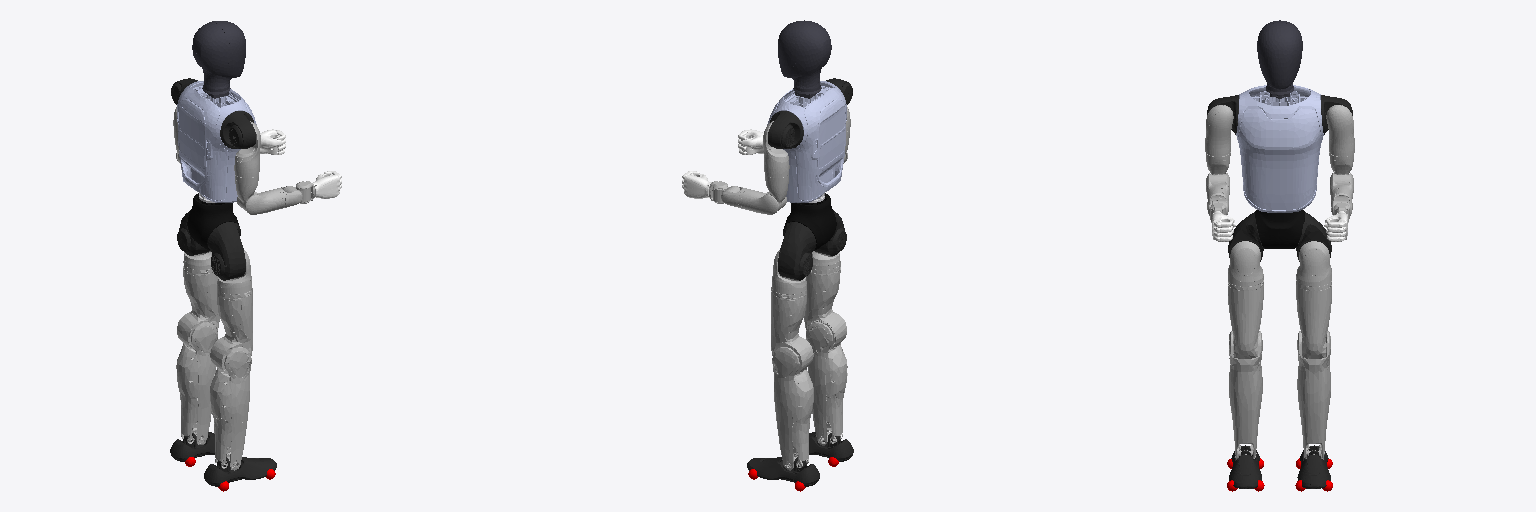
--- Render facts (derived) ---
3 views of the same robot in one strip: view 1: azimuth 30°, elevation 25°; view 2: azimuth 150°, elevation 25°; view 3: azimuth 270°, elevation 25° (orthographic).
Robot: agibot_a3 — 43 links, 42 joints (25 revolute, 17 fixed); root link pelvis_link; default pose: all joints at 0.
Links seen in each view (by area): view 1: torso_Link, right_knee_Link, left_knee_Link, head_Link, right_hip_yaw_Link, left_hip_yaw_Link, right_hip_pitch_Link, pelvis_link, right_ankle_roll_Link, right_shoulder_pitch_Link, right_shoulder_roll_Link, left_ankle_roll_Link (+5 smaller); view 2: torso_Link, left_knee_Link, right_knee_Link, head_Link, left_hip_yaw_Link, right_hip_yaw_Link, left_hip_pitch_Link, pelvis_link, left_ankle_roll_Link, left_shoulder_pitch_Link, left_shoulder_roll_Link, right_ankle_roll_Link (+5 smaller); view 3: torso_Link, right_knee_Link, left_knee_Link, head_Link, left_hip_yaw_Link, right_hip_yaw_Link, pelvis_link, left_hip_roll_Link, right_hip_roll_Link, left_shoulder_roll_Link, right_shoulder_roll_Link, left_ankle_roll_Link (+5 smaller).
Boxes of the visible links, x1,y1,x2,y2 form: torso_Link: (177,81,256,202); right_knee_Link: (210,343,251,470); left_knee_Link: (176,320,217,444); head_Link: (192,21,245,98); right_hip_yaw_Link: (210,288,252,374); left_hip_yaw_Link: (177,265,219,349); right_hip_pitch_Link: (207,222,245,280); pelvis_link: (187,193,238,250); right_ankle_roll_Link: (204,457,276,486); right_shoulder_pitch_Link: (220,111,255,148); right_shoulder_roll_Link: (234,121,260,177); left_ankle_roll_Link: (170,432,214,461); torso_Link: (767,81,846,202); left_knee_Link: (772,343,813,470); right_knee_Link: (806,320,847,445); head_Link: (778,20,831,98); left_hip_yaw_Link: (771,287,813,374); right_hip_yaw_Link: (804,263,846,349); left_hip_pitch_Link: (778,222,816,280); pelvis_link: (784,193,836,250); left_ankle_roll_Link: (747,457,819,486); left_shoulder_pitch_Link: (768,111,803,148); left_shoulder_roll_Link: (763,121,789,177); right_ankle_roll_Link: (809,432,853,461); torso_Link: (1236,85,1323,212); right_knee_Link: (1229,331,1262,459); left_knee_Link: (1297,331,1330,459); head_Link: (1257,20,1302,98); left_hip_yaw_Link: (1296,280,1331,358); right_hip_yaw_Link: (1228,280,1263,358); pelvis_link: (1255,210,1304,248); left_hip_roll_Link: (1296,241,1331,286); right_hip_roll_Link: (1228,241,1263,286); left_shoulder_roll_Link: (1326,105,1354,156); right_shoulder_roll_Link: (1205,105,1233,156); left_ankle_roll_Link: (1297,445,1330,488).
Size in the robot's own frame: 0.5035 by 0.526 by 1.76 metres.
Meshes: 35 distinct files referenced, 35 mesh visuals loaded (35 binary STL).

URDF robot description (agibot_a3):
<?xml version='1.0' encoding='utf-8'?>
<robot name="agibot_a3">
  <!-- <link name="world_link" /> -->
  <link name="pelvis_link">
    <inertial>
      <origin xyz="-0.00173323 3.616e-05 -0.12605772" rpy="0 0 0" />
      <mass value="4.99797007" />
      <inertia ixx="0.02368329" ixy="-6.45e-06" ixz="-0.00011432" iyy="0.01789291" iyz="2.381e-05" izz="0.0147862" />
    </inertial>
    <visual>
      <origin xyz="0 0 0" rpy="0 0 0" />
      <geometry>
        <mesh filename="../meshes/pelvis_link.STL" />
      </geometry>
      <material name="">
        <color rgba="0.101960784313725 0.101960784313725 0.101960784313725 1" />
      </material>
    </visual>
    <collision>
      <origin xyz="0.0 0.0 -0.12" rpy="0 0 0" />
      <geometry>
        <cylinder radius="0.0567" length="0.10"/>
      </geometry>
    </collision>
    <!-- <collision>
      <origin xyz="0 0 0" rpy="0 0 0" />
      <geometry>
        <mesh filename="../meshes/pelvis_link.STL" />
      </geometry>
    </collision> -->
  </link>

  <link name="waist_yaw_Link">
    <inertial>
      <origin xyz="-0.00087176 -0.00013308 -0.01957646" rpy="0 0 0" />
      <mass value="0.26977933" />
      <inertia ixx="0.00017946" ixy="-3.2e-07" ixz="2.614e-05" iyy="0.00028724" iyz="-4.5e-07" izz="0.00037467" />
    </inertial>
    <visual>
      <origin xyz="0 0 0" rpy="0 0 0" />
      <geometry>
        <mesh filename="../meshes/waist_yaw_Link.STL" />
      </geometry>
      <material name="">
        <color rgba="0.8902 0.8902 0.91373 1" />
      </material>
    </visual>
    <!-- <collision>
      <origin xyz="0 0 0" rpy="0 0 0" />
      <geometry>
        <mesh filename="../meshes/waist_yaw_Link.STL" />
      </geometry>
    </collision> -->
  </link>
  <joint name="waist_yaw_joint" type="revolute">
    <origin xyz="0 0 0" rpy="0 0 0" />
    <parent link="pelvis_link" />
    <child link="waist_yaw_Link" />
    <axis xyz="0.0 0.0 1.0" />
    <limit lower="-2.6179938779914944" upper="2.6179938779914944" effort="220" velocity="12.042771838760874" />
  </joint>
  <link name="waist_pitch_Link">
    <inertial>
      <origin xyz="0 0 -0.00250026" rpy="0 0 0" />
      <mass value="0.08837294" />
      <inertia ixx="1.401e-05" ixy="0" ixz="0" iyy="1.401e-05" iyz="0" izz="2.292e-05" />
    </inertial>
    <visual>
      <origin xyz="0 0 0" rpy="0 0 0" />
      <geometry>
        <mesh filename="../meshes/waist_roll_Link.STL" />
      </geometry>
      <material name="">
        <color rgba="1 1 1 1" />
      </material>
    </visual>
    <!-- <collision>
      <origin xyz="0 0 0" rpy="0 0 0" />
      <geometry>
        <mesh filename="../meshes/waist_roll_Link.STL" />
      </geometry>
    </collision> -->
  </link>
  <joint name="waist_pitch_joint" type="revolute">
    <origin xyz="-0.02 0 0.00500000000000667" rpy="0 0 0" />
    <parent link="waist_pitch_Link" />
    <child link="torso_Link" />
    <axis xyz="0.0 1.0 0.0" />
    <limit lower="-0.3490658503988659" upper="0.3490658503988659" effort="118" velocity="30" />
  </joint>
  <link name="torso_Link">
    <inertial>
      <origin xyz="0.01475672 -0.00109432 0.19140713" rpy="0 0 0" />
      <mass value="17.50315175" />
      <inertia ixx="0.25409921" ixy="-9.693e-05" ixz="0.00462801" iyy="0.20361401" iyz="-0.00011528" izz="0.13805245" />
    </inertial>
    <visual>
      <origin xyz="0 0 0" rpy="0 0 0" />
      <geometry>
        <mesh filename="../meshes/torso_Link.STL" />
      </geometry>
      <material name="">
        <color rgba="0.792156862745098 0.819607843137255 0.933333333333333 1" />
      </material>
    </visual>
    <collision>
			<origin xyz="0.02 0  0.2" rpy="0 0 0" />
			<geometry>
				<box size="0.16 0.18 0.2" />
			</geometry>
    </collision>
    <!-- <collision>
			<origin xyz="0.02 0 0.20" rpy="0 0 0" />
			<geometry>
				<box size="0.16 0.16 0.2" />
			</geometry>
    </collision> -->
    <!-- <collision>
      <origin xyz="0 0 0" rpy="0 0 0" />
      <geometry>
        <mesh filename="../meshes/torso_Link.STL" />
      </geometry>
    </collision> -->
  </link>
  <joint name="waist_roll_joint" type="revolute">
    <origin xyz="0 0 0" rpy="0 0 0" />
    <parent link="waist_yaw_Link" />
    <child link="waist_pitch_Link" />
    <axis xyz="1.0 0.0 0.0" />
    <limit lower="-0.4886921905584123" upper="0.41887902047863906" effort="46" velocity="35" />
  </joint>
  <link name="head_Link">
    <inertial>
      <origin xyz="0.02448284 0.00023542 0.22590791" rpy="0 0 0" />
      <mass value="1.49705194" />
      <inertia ixx="0.01342539" ixy="7.17e-06" ixz="-0.00024391" iyy="0.01456074" iyz="9.64e-06" izz="0.0067834" />
    </inertial>
    <visual>
      <origin xyz="0 0 0" rpy="0 0 0" />
      <geometry>
        <mesh filename="../meshes/head_Link.STL" />
      </geometry>
      <material name="">
        <color rgba="0.27843137254902 0.27843137254902 0.317647058823529 1" />
      </material>
    </visual>
    <!-- <collision>
      <origin xyz="0 0 0" rpy="0 0 0" />
      <geometry>
        <mesh filename="../meshes/head_Link.STL" />
      </geometry>
    </collision> -->
  </link>
  <joint name="head_joint" type="fixed">
    <origin xyz="0.0302999999999533 0 0.288960095036924" rpy="0 0 0" />
    <parent link="torso_Link" />
    <child link="head_Link" />
    <axis xyz="0.0 0.0 1.0" />
    <limit lower="-0.7853981633974483" upper="0.7853981633974483" effort="6" velocity="12.775810124598491" />
  </joint>
  <link name="imu_in_torso_Link">
    <inertial>
      <origin xyz="0.00319251 0.01088 0.11325846" rpy="0 0 0" />
      <mass value="0.02" />
      <inertia ixx="2.86e-06" ixy="0" ixz="0" iyy="2.78e-06" iyz="0" izz="5.27e-06" />
    </inertial>
    <visual>
      <origin xyz="0 0 0" rpy="0 0 0" />
      <geometry>
        <mesh filename="../meshes/imu_in_torso_Link.STL" />
      </geometry>
      <material name="">
        <color rgba="0.27843137254902 0.27843137254902 0.317647058823529 1" />
      </material>
    </visual>

    <!-- <collision>
      <origin xyz="0 0 0" rpy="0 0 0" />
      <geometry>
        <mesh filename="../meshes/imu_in_torso_Link.STL" />
      </geometry>
    </collision> -->
  </link>
  <joint name="imu_in_torso_joint" type="fixed">
    <origin xyz="0 0 0.111849999999993" rpy="0 0 0" />
    <parent link="torso_Link" />
    <child link="imu_in_torso_Link" />
    <axis xyz="0.0 0.0 1.0" />
    <limit lower="-0.7853981633974483" upper="0.7853981633974483" effort="6" velocity="12.775810124598491" />
  </joint>
  <link name="left_shoulder_pitch_Link">
    <inertial>
      <origin xyz="-0.00777149 0.08036095 -9.251e-05" rpy="0 0 0" />
      <mass value="0.92922441" />
      <inertia ixx="0.00104389" ixy="1.652e-05" ixz="-9.4e-06" iyy="0.00083136" iyz="9.53e-06" izz="0.00088847" />
    </inertial>
    <visual>
      <origin xyz="0 0 0" rpy="0 0 0" />
      <geometry>
        <mesh filename="../meshes/left_shoulder_pitch_Link.STL" />
      </geometry>
      <material name="dark">
        <color rgba="0.2 0.2 0.2 1" />
      </material>
    </visual>
    <!-- <collision>
      <origin xyz="0 0 0" rpy="0 0 0" />
      <geometry>
        <mesh filename="../meshes/left_shoulder_pitch_Link.STL" />
      </geometry>
    </collision> -->
  </link>
  <joint name="left_shoulder_pitch_joint" type="revolute">
    <origin xyz="0.0302999999999998 0.12 0.281523558637218" rpy="0.0872664625997163 0 0" />
    <parent link="torso_Link" />
    <child link="left_shoulder_pitch_Link" />
    <axis xyz="0.0 1.0 0.0" />
    <limit lower="-2.8797932657906435" upper="2.8797932657906435" effort="60" velocity="13.613568165555769" />
  </joint>
  <link name="left_shoulder_roll_Link">
    <inertial>
      <origin xyz="0.00639561 0.01056539 -0.09364621" rpy="0 0 0" />
      <mass value="0.87071739" />
      <inertia ixx="0.0021491" ixy="3.802e-05" ixz="-0.00042801" iyy="0.00218698" iyz="0.00013395" izz="0.00075109" />
    </inertial>
    <visual>
      <origin xyz="0 0 0" rpy="0 0 0" />
      <geometry>
        <mesh filename="../meshes/left_shoulder_roll_Link.STL" />
      </geometry>
      <material name="">
        <color rgba="0.752941176470588 0.752941176470588 0.752941176470588 1" />
      </material>
    </visual>
    <!-- <collision>
      <origin xyz="0 0 0" rpy="0 0 0" />
      <geometry>
        <mesh filename="../meshes/left_shoulder_roll_Link.STL" />
      </geometry>
    </collision> -->
  </link>
  <joint name="left_shoulder_roll_joint" type="revolute">
    <origin xyz="0 0.0853246861912147 0" rpy="-0.0872664625997163 0 0" />
    <parent link="left_shoulder_pitch_Link" />
    <child link="left_shoulder_roll_Link" />
    <axis xyz="1.0 0.0 0.0" />
    <limit lower="-0.08726646259971647" upper="2.6179938779914944" effort="60" velocity="13.613568165555769" />
  </joint>
  <link name="left_shoulder_yaw_Link">
    <inertial>
      <origin xyz="0.01013349 -0.00110861 -0.09295646" rpy="0 0 0" />
      <mass value="0.77476276" />
      <inertia ixx="0.00165265" ixy="7.39e-06" ixz="0.00020168" iyy="0.00169755" iyz="-4.054e-05" izz="0.00051061" />
    </inertial>
    <visual>
      <origin xyz="0 0 0" rpy="0 0 0" />
      <geometry>
        <mesh filename="../meshes/left_shoulder_yaw_Link.STL" />
      </geometry>
      <material name="">
        <color rgba="0.752941176470588 0.752941176470588 0.752941176470588 1" />
      </material>
    </visual>
    <collision>
      <origin rpy="0 0 0" xyz="0 0 0.06"/>
			<geometry>
				 <cylinder length="0.15" radius="0.035"/>
			</geometry>
    </collision>
    <!-- <collision>
      <origin xyz="0 0 0" rpy="0 0 0" />
      <geometry>
        <mesh filename="../meshes/left_shoulder_yaw_Link.STL" />
      </geometry>
    </collision> -->
  </link>
  <joint name="left_shoulder_yaw_joint" type="revolute">
    <origin xyz="0 0.0120000000000015 -0.147999999999998" rpy="0 0 0" />
    <parent link="left_shoulder_roll_Link" />
    <child link="left_shoulder_yaw_Link" />
    <axis xyz="0.0 0.0 1.0" />
    <limit lower="-2.792526803190927" upper="2.792526803190927" effort="24" velocity="15.707963267948966" />
  </joint>
  <link name="left_elbow_Link">
    <inertial>
      <origin xyz="0.06614615 -0.00160836 -0.01356038" rpy="0 0 0" />
      <mass value="0.77985417" />
      <inertia ixx="0.00055443" ixy="-7.806e-05" ixz="8.248e-05" iyy="0.00111366" iyz="1.566e-05" izz="0.00115276" />
    </inertial>
    <visual>
      <origin xyz="0 0 0" rpy="0 0 0" />
      <geometry>
        <mesh filename="../meshes/left_elbow_Link.STL" />
      </geometry>
      <material name="">
        <color rgba="0.752941176470588 0.752941176470588 0.752941176470588 1" />
      </material>
    </visual>
    <collision>
      <origin rpy="0 1.57 0" xyz="0.08 0 0 "/>
			<geometry>
				 <cylinder length="0.15" radius="0.03"/>
			</geometry>
    </collision>

    <!-- <collision>
      <origin xyz="0 0 0" rpy="0 0 0" />
      <geometry>
        <mesh filename="../meshes/left_elbow_Link.STL" />
      </geometry>
    </collision> -->
  </link>
  <joint name="left_elbow_joint" type="revolute">
    <origin xyz="0.015 0 -0.117000000000001" rpy="0 0 0" />
    <parent link="left_shoulder_yaw_Link" />
    <child link="left_elbow_Link" />
    <axis xyz="0.0 1.0 0.0" />
    <limit lower="-1.0471975511965976" upper="2.0943951023931953" effort="24" velocity="15.707963267948966" />
  </joint>
  <link name="left_wrist_roll_Link">
    <inertial>
      <origin xyz="0.02084296 -0.00070259 -4.661e-05" rpy="0 0 0" />
      <mass value="0.1907593" />
      <inertia ixx="0.00013536" ixy="5.68e-06" ixz="3e-08" iyy="0.00013008" iyz="7e-08" izz="0.00016782" />
    </inertial>
    <visual>
      <origin xyz="0 0 0" rpy="0 0 0" />
      <geometry>
        <mesh filename="../meshes/left_wrist_roll_Link.STL" />
      </geometry>
      <material name="">
        <color rgba="0.752941176470588 0.752941176470588 0.752941176470588 1" />
      </material>
    </visual>
    <!-- <collision>
      <origin xyz="0 0 0" rpy="0 0 0" />
      <geometry>
        <mesh filename="../meshes/left_wrist_roll_Link.STL" />
      </geometry>
    </collision> -->
  </link>
  <joint name="left_wrist_roll_joint" type="revolute">
    <origin xyz="0.113 0 -0.0150000000000012" rpy="0 0 0" />
    <parent link="left_elbow_Link" />
    <child link="left_wrist_roll_Link" />
    <axis xyz="1.0 0.0 0.0" />
    <limit lower="-2.792526803190927" upper="2.792526803190927" effort="24" velocity="15.707963267948966" />
  </joint>
  <link name="left_wrist_pitch_Link">
    <inertial>
      <origin xyz="0.02303405 -0.00200561 -0.00197433" rpy="0 0 0" />
      <mass value="0.56560861" />
      <inertia ixx="0.00021864" ixy="-2.582e-05" ixz="2.578e-05" iyy="0.0004977" iyz="1.31e-06" izz="0.0004978" />
    </inertial>
    <visual>
      <origin xyz="0 0 0" rpy="0 0 0" />
      <geometry>
        <mesh filename="../meshes/left_wrist_pitch_Link.STL" />
      </geometry>
      <material name="">
        <color rgba="0.752941176470588 0.752941176470588 0.752941176470588 1" />
      </material>
    </visual>
    <!-- <collision>
      <origin xyz="0 0 0" rpy="0 0 0" />
      <geometry>
        <mesh filename="../meshes/left_wrist_pitch_Link.STL" />
      </geometry>
    </collision> -->
  </link>
  <joint name="left_wrist_pitch_joint" type="fixed">
    <origin xyz="0.0590000000000296 0 0" rpy="0 0 0" />
    <parent link="left_wrist_roll_Link" />
    <child link="left_wrist_pitch_Link" />
    <axis xyz="0.0 1.0 0.0" />
    <limit lower="-1.6231562043547265" upper="1.6231562043547265" effort="6" velocity="12.775810124598491" />
  </joint>
  <link name="left_wrist_yaw_Link">
    <inertial>
      <origin xyz="0.01812078 2.446e-05 -0.00266043" rpy="0 0 0" />
      <mass value="0.06691955" />
      <inertia ixx="5.167e-05" ixy="0" ixz="-2.41e-06" iyy="6.941e-05" iyz="0" izz="3.413e-05" />
    </inertial>
    <visual>
      <origin xyz="0 0 0" rpy="0 0 0" />
      <geometry>
        <mesh filename="../meshes/left_wrist_yaw_Link.STL" />
      </geometry>
      <material name="">
        <color rgba="0.752941176470588 0.752941176470588 0.752941176470588 1" />
      </material>
    </visual>
    <!-- <collision>
      <origin xyz="0 0 0" rpy="0 0 0" />
      <geometry>
        <mesh filename="../meshes/left_wrist_yaw_Link.STL" />
      </geometry>
    </collision> -->
  </link>
  <joint name="left_wrist_yaw_joint" type="fixed">
    <origin xyz="0.0459999999999999 0 0" rpy="0 0 0" />
    <parent link="left_wrist_pitch_Link" />
    <child link="left_wrist_yaw_Link" />
    <axis xyz="0.0 0.0 1.0" />
    <limit lower="-1.6231562043547265" upper="1.6231562043547265" effort="6" velocity="12.775810124598491" />
  </joint>
  <link name="left_hand_fist">
    <inertial>
      <origin xyz="0.10496836 0.00576985 0.00480639" rpy="0 0 0" />
      <mass value="0.2" />
      <inertia ixx="0.00016786" ixy="-5.04e-06" ixz="6.16e-06" iyy="0.00038484" iyz="-3.343e-05" izz="0.00031994" />
    </inertial>
    <visual>
      <origin xyz="0 0 0" rpy="0 0 0" />
      <geometry>
        <mesh filename="../meshes/left_hand_fist.STL" />
      </geometry>
      <material name="">
        <color rgba="1 1 1 1" />
      </material>
    </visual>
    <collision>
      <origin xyz="0 0 0" rpy="0 0 0" />
      <geometry>
        <mesh filename="../meshes/left_hand_fist.STL" />
      </geometry>
    </collision>
  </link>
  <joint name="left_hand_palm_joint" type="fixed">
    <origin xyz="0 0 0" rpy="0 0 0" />
    <parent link="left_wrist_yaw_Link" />
    <child link="left_hand_fist" />
    <axis xyz="1 0 0" />
    <limit lower="-1.6231562043547265" upper="1.6231562043547265" effort="6" velocity="12.775810124598491" />
  </joint>
  <link name="right_shoulder_pitch_Link">
    <inertial>
      <origin xyz="-0.00777227 -0.08063532 -9.188e-05" rpy="0 0 0" />
      <mass value="0.92920627" />
      <inertia ixx="0.00104629" ixy="-2.342e-05" ixz="-9.44e-06" iyy="0.00083127" iyz="-3.44e-06" izz="0.00089086" />
    </inertial>
    <visual>
      <origin xyz="0 0 0" rpy="0 0 0" />
      <geometry>
        <mesh filename="../meshes/right_shoulder_pitch_Link.STL" />
      </geometry>
      <material name="dark">
        <color rgba="0.2 0.2 0.2 1" />
      </material>
    </visual>
    <!-- <collision>
      <origin xyz="0 0 0" rpy="0 0 0" />
      <geometry>
        <mesh filename="../meshes/right_shoulder_pitch_Link.STL" />
      </geometry>
    </collision> -->
  </link>
  <joint name="right_shoulder_pitch_joint" type="revolute">
    <origin xyz="0.0303000000000002 -0.12 0.281523558637223" rpy="-0.0872664625997168 0 0" />
    <parent link="torso_Link" />
    <child link="right_shoulder_pitch_Link" />
    <axis xyz="0.0 1.0 0.0" />
    <limit lower="-2.87979326579064" upper="2.8797932657906435" effort="60" velocity="13.613568165555769" />
  </joint>
  <link name="right_shoulder_roll_Link">
    <inertial>
      <origin xyz="0.00644119 -0.01052597 -0.09364478" rpy="0 0 0" />
      <mass value="0.870733" />
      <inertia ixx="0.0021498" ixy="-3.786e-05" ixz="-0.00042832" iyy="0.00218593" iyz="-0.00013419" izz="0.00075047" />
    </inertial>
    <visual>
      <origin xyz="0 0 0" rpy="0 0 0" />
      <geometry>
        <mesh filename="../meshes/right_shoulder_roll_Link.STL" />
      </geometry>
      <material name="">
        <color rgba="0.752941176470588 0.752941176470588 0.752941176470588 1" />
      </material>
    </visual>
    <!-- <collision>
      <origin xyz="0 0 0" rpy="0 0 0" />
      <geometry>
        <mesh filename="../meshes/right_shoulder_roll_Link.STL" />
      </geometry>
    </collision> -->
  </link>
  <joint name="right_shoulder_roll_joint" type="revolute">
    <origin xyz="0 -0.0853246861911568 0" rpy="0.0872664625997168 0 0" />
    <parent link="right_shoulder_pitch_Link" />
    <child link="right_shoulder_roll_Link" />
    <axis xyz="1.0 0.0 0.0" />
    <limit lower="-2.6179938779914944" upper="0.08726646259971647" effort="60" velocity="13.613568165555769" />
  </joint>
  <link name="right_shoulder_yaw_Link">
    <inertial>
      <origin xyz="0.01012484 0.00110631 -0.09390694" rpy="0 0 0" />
      <mass value="0.77476105" />
      <inertia ixx="0.00165174" ixy="-8.01e-06" ixz="0.00020193" iyy="0.00169541" iyz="4.139e-05" izz="0.00050953" />
    </inertial>
    <visual>
      <origin xyz="0 0 0" rpy="0 0 0" />
      <geometry>
        <mesh filename="../meshes/right_shoulder_yaw_Link.STL" />
      </geometry>
      <material name="">
        <color rgba="0.752941176470588 0.752941176470588 0.752941176470588 1" />
      </material>
    </visual>
    <collision>
      <origin rpy="0 0 0" xyz="0 0 0.06"/>
			<geometry>
				 <cylinder length="0.15" radius="0.035"/>
			</geometry>
    </collision>
    <!-- <collision>
      <origin xyz="0 0 0" rpy="0 0 0" />
      <geometry>
        <mesh filename="../meshes/right_shoulder_yaw_Link.STL" />
      </geometry>
    </collision> -->
  </link>
  <joint name="right_shoulder_yaw_joint" type="revolute">
    <origin xyz="0 -0.0119984599105831 -0.147000134740367" rpy="0 0 0" />
    <parent link="right_shoulder_roll_Link" />
    <child link="right_shoulder_yaw_Link" />
    <axis xyz="0.0 0.0 1.0" />
    <limit lower="-2.792526803190927" upper="2.792526803190927" effort="24" velocity="15.707963267948966" />
  </joint>
  <link name="right_elbow_Link">
    <inertial>
      <origin xyz="0.06612754 0.00152157 -0.01346557" rpy="0 0 0" />
      <mass value="0.78092791" />
      <inertia ixx="0.00055432" ixy="7.733e-05" ixz="8.348e-05" iyy="0.00111331" iyz="-1.583e-05" izz="0.00115344" />
    </inertial>
    <visual>
      <origin xyz="0 0 0" rpy="0 0 0" />
      <geometry>
        <mesh filename="../meshes/right_elbow_Link.STL" />
      </geometry>
      <material name="">
        <color rgba="0.752941176470588 0.752941176470588 0.752941176470588 1" />
      </material>
    </visual>
    <collision>
      <origin rpy="0 1.57 0" xyz="0.08 0 0 "/>
			<geometry>
				 <cylinder length="0.15" radius="0.03"/>
			</geometry>
    </collision>
    <!-- <collision>
      <origin xyz="0 0 0" rpy="0 0 0" />
      <geometry>
        <mesh filename="../meshes/right_elbow_Link.STL" />
      </geometry>
    </collision> -->
  </link>
  <joint name="right_elbow_joint" type="revolute">
    <origin xyz="0.0149999999999994 0 -0.118" rpy="0 0 0" />
    <parent link="right_shoulder_yaw_Link" />
    <child link="right_elbow_Link" />
    <axis xyz="0.0 1.0 0.0" />
    <limit lower="-1.0471975511965976" upper="2.0943951023931953" effort="24" velocity="15.707963267948966" />
  </joint>
  <link name="right_wrist_roll_Link">
    <inertial>
      <origin xyz="0.02084296 0.00070259 4.661e-05" rpy="0 0 0" />
      <mass value="0.1907593" />
      <inertia ixx="0.00013536" ixy="-5.68e-06" ixz="-3e-08" iyy="0.00013008" iyz="7e-08" izz="0.00016782" />
    </inertial>
    <visual>
      <origin xyz="0 0 0" rpy="0 0 0" />
      <geometry>
        <mesh filename="../meshes/right_wrist_roll_Link.STL" />
      </geometry>
      <material name="">
        <color rgba="0.752941176470588 0.752941176470588 0.752941176470588 1" />
      </material>
    </visual>
    <!-- <collision>
      <origin xyz="0 0 0" rpy="0 0 0" />
      <geometry>
        <mesh filename="../meshes/right_wrist_roll_Link.STL" />
      </geometry>
    </collision> -->
  </link>
  <joint name="right_wrist_roll_joint" type="revolute">
    <origin xyz="0.113000000000002 0 -0.0149999999999992" rpy="0 0 0" />
    <parent link="right_elbow_Link" />
    <child link="right_wrist_roll_Link" />
    <axis xyz="1.0 0.0 0.0" />
    <limit lower="-2.792526803190927" upper="2.792526803190927" effort="24" velocity="15.707963267948966" />
  </joint>
  <link name="right_wrist_pitch_Link">
    <inertial>
      <origin xyz="0.02303405 0.00200561 0.00197433" rpy="0 0 0" />
      <mass value="0.56560861" />
      <inertia ixx="0.00021864" ixy="2.582e-05" ixz="-2.578e-05" iyy="0.0004977" iyz="1.31e-06" izz="0.0004978" />
    </inertial>
    <visual>
      <origin xyz="0 0 0" rpy="0 0 0" />
      <geometry>
        <mesh filename="../meshes/right_wrist_pitch_Link.STL" />
      </geometry>
      <material name="">
        <color rgba="0.752941176470588 0.752941176470588 0.752941176470588 1" />
      </material>
    </visual>
    <!-- <collision>
      <origin xyz="0 0 0" rpy="0 0 0" />
      <geometry>
        <mesh filename="../meshes/right_wrist_pitch_Link.STL" />
      </geometry>
    </collision> -->
  </link>
  <joint name="right_wrist_pitch_joint" type="fixed">
    <origin xyz="0.0590000000000295 0 0" rpy="0 0 0" />
    <parent link="right_wrist_roll_Link" />
    <child link="right_wrist_pitch_Link" />
    <axis xyz="0.0 1.0 0.0" />
    <limit lower="-1.6231562043547265" upper="1.6231562043547265" effort="6" velocity="12.775810124598491" />
  </joint>
  <link name="right_wrist_yaw_Link">
    <inertial>
      <origin xyz="0.01812078 -2.446e-05 0.00266043" rpy="0 0 0" />
      <mass value="0.06691955" />
      <inertia ixx="5.167e-05" ixy="0" ixz="2.41e-06" iyy="6.941e-05" iyz="0" izz="3.413e-05" />
    </inertial>
    <visual>
      <origin xyz="0 0 0" rpy="0 0 0" />
      <geometry>
        <mesh filename="../meshes/right_wrist_yaw_Link.STL" />
      </geometry>
      <material name="">
        <color rgba="0.752941176470588 0.752941176470588 0.752941176470588 1" />
      </material>
    </visual>
    <!-- <collision>
      <origin xyz="0 0 0" rpy="0 0 0" />
      <geometry>
        <mesh filename="../meshes/right_wrist_yaw_Link.STL" />
      </geometry>
    </collision> -->
  </link>
  <joint name="right_wrist_yaw_joint" type="fixed">
    <origin xyz="0.0459999999999997 0 0" rpy="0 0 0" />
    <parent link="right_wrist_pitch_Link" />
    <child link="right_wrist_yaw_Link" />
    <axis xyz="0.0 0.0 1.0" />
    <limit lower="-1.6231562043547265" upper="1.6231562043547265" effort="6" velocity="12.775810124598491" />
  </joint>
  <link name="right_hand_fist">
    <inertial>
      <origin xyz="0.10496836 0.00576985 0.00480639" rpy="0 0 0" />
      <mass value="0.2" />
      <inertia ixx="0.00016786" ixy="-5.04e-06" ixz="6.16e-06" iyy="0.00038484" iyz="-3.343e-05" izz="0.00031994" />
    </inertial>
    <visual>
      <origin xyz="0 0 0" rpy="0 0 0" />
      <geometry>
        <mesh filename="../meshes/right_hand_fist.STL" />
      </geometry>
      <material name="">
        <color rgba="1 1 1 1" />
      </material>
    </visual>
    <collision>
      <origin xyz="0 0 0" rpy="0 0 0" />
      <geometry>
        <mesh filename="../meshes/right_hand_fist.STL" />
      </geometry>
    </collision>
  </link>
  <joint name="right_hand_palm_joint" type="fixed">
    <origin xyz="0 0 0" rpy="0 0 0" />
    <parent link="right_wrist_yaw_Link" />
    <child link="right_hand_fist" />
    <axis xyz="1 0 0" />
    <limit lower="-1.6231562043547265" upper="1.6231562043547265" effort="6" velocity="12.775810124598491" />
  </joint>
  <link name="imu_in_pelvis_Link">
    <inertial>
      <origin xyz="0.00032251 -0.01088 -0.21155846" rpy="0 0 0" />
      <mass value="0.02" />
      <inertia ixx="2.86e-06" ixy="0" ixz="0" iyy="2.78e-06" iyz="0" izz="5.27e-06" />
    </inertial>
    <visual>
      <origin xyz="0 0 0" rpy="0 0 0" />
      <geometry>
        <mesh filename="../meshes/imu_in_pelvis_Link.STL" />
      </geometry>
      <material name="">
        <color rgba="0.27843137254902 0.27843137254902 0.317647058823529 1" />
      </material>
    </visual>
    <!-- <collision>
      <origin xyz="0 0 0" rpy="0 0 0" />
      <geometry>
        <mesh filename="../meshes/imu_in_pelvis_Link.STL" />
      </geometry>
    </collision> -->
  </link>
  <joint name="imu_in_pelvis_joint" type="fixed">
    <origin xyz="-0.00287000000011174 0 -0.21015" rpy="0 0 0" />
    <parent link="pelvis_link" />
    <child link="imu_in_pelvis_Link" />
    <axis xyz="1 0 0" />
    <limit lower="-1.6231562043547265" upper="1.6231562043547265" effort="6" velocity="12.775810124598491" />
  </joint>
  <link name="left_hip_pitch_Link">
    <inertial>
      <origin xyz="0.00267871 -0.00243539 -0.05644271" rpy="0 0 0" />
      <mass value="1.77894607" />
      <inertia ixx="0.00367785" ixy="1.574e-05" ixz="-3.485e-05" iyy="0.00294071" iyz="0.0002706" izz="0.00208856" />
    </inertial>
    <visual>
      <origin xyz="0 0 0" rpy="0 0 0" />
      <geometry>
        <mesh filename="../meshes/left_hip_pitch_Link.STL" />
      </geometry>
      <material name="">
        <color rgba="0.2 0.2 0.2 1" />
      </material>
    </visual>
    <!-- <collision>
      <origin rpy="0 0 0" xyz="0 0 -0.20"/>
      <geometry>
        <box size="0.08 0.08 0.28"/>
      </geometry>
    </collision> -->
    <!-- <collision>
      <origin xyz="0 0 0" rpy="0 0 0" />
      <geometry>
        <mesh filename="../meshes/left_hip_pitch_Link.STL" />
      </geometry>
    </collision> -->
  </link>
  <joint name="left_hip_pitch_joint" type="revolute">
    <origin xyz="0 0.11999999999997 -0.176453903091725" rpy="-0.26179938779914 0 0" />
    <parent link="pelvis_link" />
    <child link="left_hip_pitch_Link" />
    <axis xyz="0.0 1.0 0" />
    <limit lower="-2.6878070480712672" upper="2.9321531433504737" effort="220" velocity="12.042771838760874" />
  </joint>
  <link name="left_hip_roll_Link">
    <inertial>
      <origin xyz="0.01266201 -0.00178224 -0.05347081" rpy="0 0 0" />
      <mass value="0.35206533" />
      <inertia ixx="0.00094143" ixy="-7.69e-06" ixz="-0.00013501" iyy="0.00085131" iyz="-2.063e-05" izz="0.00062843" />
    </inertial>
    <visual>
      <origin xyz="0 0 0" rpy="0 0 0" />
      <geometry>
        <mesh filename="../meshes/left_hip_roll_Link.STL" />
      </geometry>
      <material name="">
        <color rgba="0.752941176470588 0.752941176470588 0.752941176470588 1" />
      </material>
    </visual>
    <!-- <collision>
      <origin xyz="0 0 0" rpy="0 0 0" />
      <geometry>
        <mesh filename="../meshes/left_hip_roll_Link.STL" />
      </geometry>
    </collision> -->
  </link>
  <joint name="left_hip_roll_joint" type="revolute">
    <origin xyz="0.0163025830474185 0.0168284752077701 -0.0628046719532485" rpy="0.26179938779914 0 0" />
    <parent link="left_hip_pitch_Link" />
    <child link="left_hip_roll_Link" />
    <axis xyz="1.0 0.0 0.0" />
    <limit lower="-0.6981317007977318" upper="1.2217304763960306" effort="220" velocity="21.57" />
  </joint>
  <link name="left_hip_yaw_Link">
    <inertial>
      <origin xyz="-0.00612772 -0.00144301 -0.27526073" rpy="0 0 0" />
      <mass value="4.54364082" />
      <inertia ixx="0.06608668" ixy="-6.66e-05" ixz="-0.00440006" iyy="0.06793671" iyz="-0.00054728" izz="0.00873687" />
    </inertial>
    <visual>
      <origin xyz="0 0 0" rpy="0 0 0" />
      <geometry>
        <mesh filename="../meshes/left_hip_yaw_Link.STL" />
      </geometry>
      <material name="">
        <color rgba="0.752941176470588 0.752941176470588 0.752941176470588 1" />
      </material>
    </visual>
    <collision>
      <origin rpy="0 0 0" xyz="0 0 -0.15"/>
      <geometry>
        <box size="0.08 0.08 0.28"/>
      </geometry>
    </collision>
    <!-- <collision>
      <origin xyz="0 0 0" rpy="0 0 0" />
      <geometry>
        <mesh filename="../meshes/left_hip_yaw_Link.STL" />
      </geometry>
    </collision> -->
  </link>
  <joint name="left_hip_yaw_joint" type="revolute">
    <origin xyz="0 0 0" rpy="0 0 0" />
    <parent link="left_hip_roll_Link" />
    <child link="left_hip_yaw_Link" />
    <axis xyz="0.0 0.0 1.0" />
    <limit lower="-2.7576202181510405" upper="2.7576202181510405" effort="220" velocity="12.042771838760874" />
  </joint>
  <link name="left_knee_Link">
    <inertial>
      <origin xyz="-0.00317169 -0.00065704 -0.17344448" rpy="0 0 0" />
      <mass value="3.07100639" />
      <inertia ixx="0.03800304" ixy="-5.251e-05" ixz="-0.00141125" iyy="0.03713059" iyz="0.00034426" izz="0.00505054" />
    </inertial>
    <visual>
      <origin xyz="0 0 0" rpy="0 0 0" />
      <geometry>
        <mesh filename="../meshes/left_knee_Link.STL" />
      </geometry>
      <material name="">
        <color rgba="0.752941176470588 0.752941176470588 0.752941176470588 1" />
      </material>
    </visual>
    <collision>
      <origin rpy="0 0 0" xyz="0 0 -0.22"/>
      <geometry>
        <box size="0.05 0.08 0.25"/>
      </geometry>
    </collision>
    <!-- <collision>
      <origin xyz="0 0 0" rpy="0 0 0" />
      <geometry>
        <mesh filename="../meshes/left_knee_Link.STL" />
      </geometry>
    </collision> -->
  </link>
  <joint name="left_knee_joint" type="revolute">
    <origin xyz="-0.0163025830480812 0 -0.370000000000686" rpy="0 0 0" />
    <parent link="left_hip_yaw_Link" />
    <child link="left_knee_Link" />
    <axis xyz="0.0 1.0 0.0" />
    <limit lower="-0.12217304763960307" upper="2.443460952792061" effort="320" velocity="19.89" />
  </joint>
  <link name="left_ankle_pitch_Link">
    <inertial>
      <origin xyz="0 0 -0.00028903" rpy="0 0 0" />
      <mass value="0.1168436" />
      <inertia ixx="2.714e-05" ixy="0" ixz="0" iyy="1.074e-05" iyz="0" izz="3.362e-05" />
    </inertial>
    <visual>
      <origin xyz="0 0 0" rpy="0 0 0" />
      <geometry>
        <mesh filename="../meshes/left_ankle_pitch_Link.STL" />
      </geometry>
      <material name="">
        <color rgba="0.752941176470588 0.752941176470588 0.752941176470588 1" />
      </material>
    </visual>
    <!-- <collision>
      <origin xyz="0 0 0" rpy="0 0 0" />
      <geometry>
        <mesh filename="../meshes/left_ankle_pitch_Link.STL" />
      </geometry>
    </collision> -->
  </link>
  <joint name="left_ankle_pitch_joint" type="revolute">
    <origin xyz="0 0.000200013598689153 -0.414999999984657" rpy="0 0 0" />
    <parent link="left_knee_Link" />
    <child link="left_ankle_pitch_Link" />
    <axis xyz="0.0 1.0 0.0" />
    <limit lower="-0.9075712110370513" upper="0.5235987755982988" effort="115" velocity="30" />
  </joint>
  <link name="left_ankle_roll_Link">
    <inertial>
      <origin xyz="0.01451721 2.44e-06 -0.03760915" rpy="0 0 0" />
      <mass value="0.68665426" />
      <inertia ixx="0.00072078" ixy="-1.2e-07" ixz="0.00028901" iyy="0.00331387" iyz="2e-08" izz="0.00340209" />
    </inertial>
    <visual>
      <origin xyz="0 0 0" rpy="0 0 0" />
      <geometry>
        <mesh filename="../meshes/left_ankle_roll_Link.STL" />
      </geometry>
      <material name="dark">
        <color rgba="0.2 0.2 0.2 1" />
      </material>
    </visual>
    <!-- <collision name="left_foot1_collision">
      <origin rpy="0 0 0" xyz="0.175 0 -0.054"/>
      <geometry>
        <sphere radius="0.002"/>
      </geometry>
    </collision>
    <collision name="left_foot2_collision">
      <origin rpy="0 0 0" xyz="-0.09 0 -0.066"/>
      <geometry>
        <sphere radius="0.002"/>
      </geometry>
    </collision>
    <collision name="left_foot3_collision">
      <origin rpy="0 0 0" xyz="0.135 0.046 -0.063"/>
      <geometry>
        <sphere radius="0.002"/>
      </geometry>
    </collision>
    <collision name="left_foot4_collision">
      <origin rpy="0 0 0" xyz="0.135 -0.046 -0.063"/>
      <geometry>
        <sphere radius="0.002"/>
      </geometry>
    </collision>
    <collision name="left_foot5_collision">
      <origin rpy="0 0 0" xyz="0.065 0.053 -0.066"/>
      <geometry>
        <sphere radius="0.002"/>
      </geometry>
    </collision>
    <collision name="left_foot6_collision">
      <origin rpy="0 0 0" xyz="0.065 -0.053 -0.066"/>
      <geometry>
        <sphere radius="0.002"/>
      </geometry>
    </collision>
    <collision name="left_foot7_collision">
      <origin rpy="0 0 0" xyz="-0.055 0.045 -0.066"/>
      <geometry>
        <sphere radius="0.002"/>
      </geometry>
    </collision>
    <collision name="left_foot8_collision">
      <origin rpy="0 0 0" xyz="-0.055 -0.045 -0.066"/>
      <geometry>
        <sphere radius="0.002"/>
      </geometry>
    </collision>
    <collision name="left_foot9_collision">
      <origin rpy="0 0 0" xyz="0.1 0.053 -0.0655"/>
      <geometry>
        <sphere radius="0.002"/>
      </geometry>
    </collision>
    <collision name="left_foot10_collision">
      <origin rpy="0 0 0" xyz="0.1 -0.053 -0.0655"/>
      <geometry>
        <sphere radius="0.002"/>
      </geometry>
    </collision>
    <collision name="left_foot11_collision">
      <origin rpy="0 0 0" xyz="0.065 0 -0.066"/>
      <geometry>
        <sphere radius="0.002"/>
      </geometry>
    </collision>
    <collision name="left_foot12_collision">
      <origin rpy="0 0 0" xyz="0 -0.026 -0.0637"/>
      <geometry>
        <sphere radius="0.002"/>
      </geometry>
    </collision>
    <collision name="left_foot13_collision">
      <origin rpy="0 0 0" xyz="0 0.026 -0.0637"/>
      <geometry>
        <sphere radius="0.002"/>
      </geometry>
    </collision> -->
    <collision>
      <origin xyz="0 0 0" rpy="0 0 0" />
      <geometry>
        <mesh filename="../meshes/left_ankle_roll_Link.STL" />
      </geometry>
    </collision>
  </link> 
  <joint name="left_ankle_roll_joint" type="revolute">
    <origin xyz="0 0 0" rpy="0 0 0" />
    <parent link="left_ankle_pitch_Link" />
    <child link="left_ankle_roll_Link" />
    <axis xyz="1.0 0.0 0.0" />
    <limit lower="-0.3490658503988659" upper="0.3490658503988659" effort="54" velocity="40" />
  </joint>
  <joint name = "joint_left_foot3_collision" type = "fixed" dont_collapse="true">
    <origin rpy = "0 0 0" xyz = "0.135 0.046 -0.063" />
    <parent link = "left_ankle_roll_Link" />
    <child link = "left_foot3_collision" />
  </joint>
  
  <link name = "left_foot3_collision">
    <collision>
      <origin rpy = "0 0 0" xyz = "0 0 0" />
      <geometry>
        <sphere radius = "0.005" />
      </geometry>
    </collision>
    <inertial>
      <mass value="0.01"/>
      <inertia ixx="9.6e-06" ixy="0.0" ixz="0.0" iyy="9.6e-06" iyz="0.0" izz="9.6e-06"/>
    </inertial>
    <visual>
        <origin rpy = "0 0 0" xyz = "0 0 0" />
        <geometry>
          <sphere radius = "0.02" />
        </geometry>
        <material name = "">
          <color rgba = "1 0 0 1" />
          <texture filename = "" />
        </material>
    </visual>
  </link>
    <joint name = "joint_left_foot4_collision" type = "fixed" dont_collapse="true">
      <origin rpy = "0 0 0" xyz = "0.135 -0.046 -0.063" />
      <parent link = "left_ankle_roll_Link" />
      <child link = "left_foot4_collision" />
  </joint>
  <link name = "left_foot4_collision">
    <collision>
      <origin rpy = "0 0 0" xyz = "0 0 0" />
      <geometry>
        <sphere radius = "0.005" />
      </geometry>
    </collision>
    <inertial>
      <mass value="0.01"/>
      <inertia ixx="9.6e-06" ixy="0.0" ixz="0.0" iyy="9.6e-06" iyz="0.0" izz="9.6e-06"/>
    </inertial>
    <visual>
        <origin rpy = "0 0 0" xyz = "0 0 0" />
        <geometry>
          <sphere radius = "0.02" />
        </geometry>
        <material name = "">
          <color rgba = "1 0 0 1" />
          <texture filename = "" />
        </material>
    </visual>
  </link>

  <joint name = "joint_left_foot7_collision" type = "fixed" dont_collapse="true">
    <origin rpy = "0 0 0" xyz = "-0.055 0.045 -0.066" />
    <parent link = "left_ankle_roll_Link" />
    <child link = "left_foot7_collision" />
  </joint>
  <link name = "left_foot7_collision">
    <collision>
      <origin rpy = "0 0 0" xyz = "0 0 0" />
      <geometry>
        <sphere radius = "0.005" />
      </geometry>
    </collision>
    <inertial>
      <mass value="0.01"/>
      <inertia ixx="9.6e-06" ixy="0.0" ixz="0.0" iyy="9.6e-06" iyz="0.0" izz="9.6e-06"/>
    </inertial>
    <visual>
        <origin rpy = "0 0 0" xyz = "0 0 0" />
        <geometry>
          <sphere radius = "0.02" />
        </geometry>
        <material name = "">
          <color rgba = "1 0 0 1" />
          <texture filename = "" />
        </material>
    </visual>
  </link>

  <joint name = "joint_left_foot8_collision" type = "fixed" dont_collapse="true">
    <origin rpy = "0 0 0" xyz = "-0.055 -0.045 -0.066" />
    <parent link = "left_ankle_roll_Link" />
    <child link = "left_foot8_collision" />
  </joint>
  <link name = "left_foot8_collision">
    <collision>
      <origin rpy = "0 0 0" xyz = "0 0 0" />
      <geometry>
        <sphere radius = "0.005" />
      </geometry>
    </collision>
    <inertial>
      <mass value="0.01"/>
      <inertia ixx="9.6e-06" ixy="0.0" ixz="0.0" iyy="9.6e-06" iyz="0.0" izz="9.6e-06"/>
    </inertial>
    <visual>
        <origin rpy = "0 0 0" xyz = "0 0 0" />
        <geometry>
          <sphere radius = "0.02" />
        </geometry>
        <material name = "">
          <color rgba = "1 0 0 1" />
          <texture filename = "" />
        </material>
    </visual>
  </link>
  
  <!-- <link name="left_foot_site">
    <visual>
      <origin rpy = "0 0 0" xyz = "0 0 0" />
      <geometry>
        <sphere radius = "0.02" />
      </geometry>
      <material name = "">
        <color rgba = "1 0 0 1" />
        <texture filename = "" />
      </material>
    </visual>
  </link>  -->
  <link name="right_hip_pitch_Link">
    <inertial>
      <origin xyz="0.00268023 0.00240798 -0.05643276" rpy="0 0 0" />
      <mass value="1.77801957" />
      <inertia ixx="0.00367435" ixy="-1.572e-05" ixz="-3.37e-05" iyy="0.00293973" iyz="-0.00027027" izz="0.00208557" />
    </inertial>
    <visual>
      <origin xyz="0 0 0" rpy="0 0 0" />
      <geometry>
        <mesh filename="../meshes/right_hip_pitch_Link.STL" />
      </geometry>
      <material name="">
        <color rgba="0.2 0.2 0.2 1" />
      </material>
    </visual>
    <!-- <collision>
      <origin rpy="0 0 0" xyz="0 0 -0.20"/>
      <geometry>
        <box size="0.08 0.08 0.28"/>
      </geometry>
    </collision> -->
    <!-- <collision>
      <origin xyz="0 0 0" rpy="0 0 0" />
      <geometry>
        <mesh filename="../meshes/right_hip_pitch_Link.STL" />
      </geometry>
    </collision> -->
  </link>
  <joint name="right_hip_pitch_joint" type="revolute">
    <origin xyz="0 -0.12000000000003 -0.176453903091742" rpy="0.26179938779916 0 0" />
    <parent link="pelvis_link" />
    <child link="right_hip_pitch_Link" />
    <axis xyz="0.0 1 0" />
    <limit lower="-2.6878070480712672" upper="2.9321531433504737" effort="220" velocity="12.042771838760874" />
  </joint>
  <link name="right_hip_roll_Link">
    <inertial>
      <origin xyz="0.01265976 0.0017836 -0.05347127" rpy="0 0 0" />
      <mass value="0.35204362" />
      <inertia ixx="0.00094139" ixy="7.69e-06" ixz="-0.00013494" iyy="0.00085128" iyz="2.062e-05" izz="0.00062838" />
    </inertial>
    <visual>
      <origin xyz="0 0 0" rpy="0 0 0" />
      <geometry>
        <mesh filename="../meshes/right_hip_roll_Link.STL" />
      </geometry>
      <material name="">
        <color rgba="0.752941176470588 0.752941176470588 0.752941176470588 1" />
      </material>
    </visual>
    <!-- <collision>
      <origin xyz="0 0 0" rpy="0 0 0" />
      <geometry>
        <mesh filename="../meshes/right_hip_roll_Link.STL" />
      </geometry>
    </collision> -->
  </link>
  <joint name="right_hip_roll_joint" type="revolute">
    <origin xyz="0.016302583047427 -0.0168284752077021 -0.0628046719532634" rpy="-0.26179938779916 0 0" />
    <parent link="right_hip_pitch_Link" />
    <child link="right_hip_roll_Link" />
    <axis xyz="1.0 0.0 0.0" />
    <limit lower="-1.2217304763960306" upper="0.6981317007977318" effort="220" velocity="21.57" />
  </joint>
  <link name="right_hip_yaw_Link">
    <inertial>
      <origin xyz="-0.00612676 0.00126124 -0.27538787" rpy="0 0 0" />
      <mass value="4.53939066" />
      <inertia ixx="0.06603026" ixy="6.614e-05" ixz="-0.00436345" iyy="0.06789134" iyz="0.00068332" izz="0.00874954" />
    </inertial>
    <visual>
      <origin xyz="0 0 0" rpy="0 0 0" />
      <geometry>
        <mesh filename="../meshes/right_hip_yaw_Link.STL" />
      </geometry>
      <material name="">
        <color rgba="0.752941176470588 0.752941176470588 0.752941176470588 1" />
      </material>
    </visual>
    <collision>
      <origin rpy="0 0 0" xyz="0 0 -0.15"/>
      <geometry>
        <box size="0.08 0.08 0.28"/>
      </geometry>
    </collision>
    <!-- <collision>
      <origin xyz="0 0 0" rpy="0 0 0" />
      <geometry>
        <mesh filename="../meshes/right_hip_yaw_Link.STL" />
      </geometry>
    </collision> -->
  </link>
  <joint name="right_hip_yaw_joint" type="revolute">
    <origin xyz="0 0 0" rpy="0 0 0" />
    <parent link="right_hip_roll_Link" />
    <child link="right_hip_yaw_Link" />
    <axis xyz="0.0 0.0 1.0" />
    <limit lower="-2.7576202181510405" upper="2.7576202181510405" effort="220" velocity="21.57" />
  </joint>
  <link name="right_knee_Link">
    <inertial>
      <origin xyz="-0.00320407 0.00063549 -0.17354311" rpy="0 0 0" />
      <mass value="3.08105802" />
      <inertia ixx="0.03803056" ixy="5.112e-05" ixz="-0.00141506" iyy="0.03714762" iyz="-0.00034039" izz="0.00506399" />
    </inertial>
    <visual>
      <origin xyz="0 0 0" rpy="0 0 0" />
      <geometry>
        <mesh filename="../meshes/right_knee_Link.STL" />
      </geometry>
      <material name="">
        <color rgba="0.752941176470588 0.752941176470588 0.752941176470588 1" />
      </material>
    </visual>
    <collision>
      <origin rpy="0 0 0" xyz="0 0 -0.22"/>
      <geometry>
        <box size="0.05 0.08 0.25"/>
      </geometry>
    </collision>
    <!-- <collision>
      <origin xyz="0 0 0" rpy="0 0 0" />
      <geometry>
        <mesh filename="../meshes/right_knee_Link.STL" />
      </geometry>
    </collision> -->
  </link>
  <joint name="right_knee_joint" type="revolute">
    <origin xyz="-0.0163025830480783 0 -0.370000000000683" rpy="0 0 0" />
    <parent link="right_hip_yaw_Link" />
    <child link="right_knee_Link" />
    <axis xyz="0.0 1.0 0.0" />
    <limit lower="-0.12217304763960307" upper="2.443460952792061" effort="320" velocity="14.660765716752367" />
  </joint>
  <link name="right_ankle_pitch_Link">
    <inertial>
      <origin xyz="0 0 -0.00028903" rpy="0 0 0" />
      <mass value="0.1168436" />
      <inertia ixx="2.714e-05" ixy="0" ixz="0" iyy="1.074e-05" iyz="0" izz="3.362e-05" />
    </inertial>
    <visual>
      <origin xyz="0 0 0" rpy="0 0 0" />
      <geometry>
        <mesh filename="../meshes/right_ankle_pitch_Link.STL" />
      </geometry>
      <material name="">
        <color rgba="0.752941176470588 0.752941176470588 0.752941176470588 1" />
      </material>
    </visual>
    <!-- <collision>
      <origin xyz="0 0 0" rpy="0 0 0" />
      <geometry>
        <mesh filename="../meshes/right_ankle_pitch_Link.STL" />
      </geometry>
    </collision> -->
  </link>
  <joint name="right_ankle_pitch_joint" type="revolute">
    <origin xyz="0 -0.000200013598673193 -0.414999999999995" rpy="0 0 0" />
    <parent link="right_knee_Link" />
    <child link="right_ankle_pitch_Link" />
    <axis xyz="0.0 1.0 0.0" />
    <limit lower="-0.9075712110370513" upper="0.5235987755982988" effort="115" velocity="30" />
  </joint>
  <link name="right_ankle_roll_Link">
    <inertial>
      <origin xyz="0.01451721 2.44e-06 -0.03760915" rpy="0 0 0" />
      <mass value="0.68665426" />
      <inertia ixx="0.00072078" ixy="-1.2e-07" ixz="0.00028901" iyy="0.00331387" iyz="2e-08" izz="0.00340209" />
    </inertial>
    <visual>
      <origin xyz="0 0 0" rpy="0 0 0" />
      <geometry>
        <mesh filename="../meshes/right_ankle_roll_Link.STL" />
      </geometry>
      <material name="dark">
        <color rgba="0.2 0.2 0.2 1" />
      </material>
    </visual>
    <collision>
      <origin xyz="0 0 0" rpy="0 0 0" />
      <geometry>
        <mesh filename="../meshes/right_ankle_roll_Link.STL" />
      </geometry>
    </collision>
  </link>
  <joint name="right_ankle_roll_joint" type="revolute">
    <origin xyz="0 0 0" rpy="0 0 0" />
    <parent link="right_ankle_pitch_Link" />
    <child link="right_ankle_roll_Link" />
    <axis xyz="1.0 0.0 0.0" />
    <limit lower="-0.3490658503988659" upper="0.3490658503988659" effort="54" velocity="40" />
  </joint>
  <joint name = "joint_right_foot3_collision" type = "fixed" dont_collapse="true">
    <origin rpy = "0 0 0" xyz = "0.135 0.046 -0.063" />
    <parent link = "right_ankle_roll_Link" />
    <child link = "right_foot3_collision" />
  </joint>
  
  <link name = "right_foot3_collision">
    <collision>
      <origin rpy = "0 0 0" xyz = "0 0 0" />
      <geometry>
        <sphere radius = "0.005" />
      </geometry>
    </collision>
    <inertial>
      <mass value="0.01"/>
      <inertia ixx="9.6e-06" ixy="0.0" ixz="0.0" iyy="9.6e-06" iyz="0.0" izz="9.6e-06"/>
    </inertial>
    <visual>
        <origin rpy = "0 0 0" xyz = "0 0 0" />
        <geometry>
          <sphere radius = "0.02" />
        </geometry>
        <material name = "">
          <color rgba = "1 0 0 1" />
          <texture filename = "" />
        </material>
    </visual>
  </link>
    <joint name = "joint_right_foot4_collision" type = "fixed" dont_collapse="true">
      <origin rpy = "0 0 0" xyz = "0.135 -0.046 -0.063" />
      <parent link = "right_ankle_roll_Link" />
      <child link = "right_foot4_collision" />
  </joint>
  <link name = "right_foot4_collision">
    <collision>
      <origin rpy = "0 0 0" xyz = "0 0 0" />
      <geometry>
        <sphere radius = "0.005" />
      </geometry>
    </collision>
    <inertial>
      <mass value="0.01"/>
      <inertia ixx="9.6e-06" ixy="0.0" ixz="0.0" iyy="9.6e-06" iyz="0.0" izz="9.6e-06"/>
    </inertial>
    <visual>
        <origin rpy = "0 0 0" xyz = "0 0 0" />
        <geometry>
          <sphere radius = "0.02" />
        </geometry>
        <material name = "">
          <color rgba = "1 0 0 1" />
          <texture filename = "" />
        </material>
    </visual>
  </link>

  <joint name = "joint_right_foot7_collision" type = "fixed" dont_collapse="true">
    <origin rpy = "0 0 0" xyz = "-0.055 0.045 -0.066" />
    <parent link = "right_ankle_roll_Link" />
    <child link = "right_foot7_collision" />
  </joint>
  <link name = "right_foot7_collision">
    <collision>
      <origin rpy = "0 0 0" xyz = "0 0 0" />
      <geometry>
        <sphere radius = "0.005" />
      </geometry>
    </collision>
    <inertial>
      <mass value="0.01"/>
      <inertia ixx="9.6e-06" ixy="0.0" ixz="0.0" iyy="9.6e-06" iyz="0.0" izz="9.6e-06"/>
    </inertial>
    <visual>
        <origin rpy = "0 0 0" xyz = "0 0 0" />
        <geometry>
          <sphere radius = "0.02" />
        </geometry>
        <material name = "">
          <color rgba = "1 0 0 1" />
          <texture filename = "" />
        </material>
    </visual>
  </link>

  <joint name = "joint_right_foot8_collision" type = "fixed" dont_collapse="true">
    <origin rpy = "0 0 0" xyz = "-0.055 -0.045 -0.066" />
    <parent link = "right_ankle_roll_Link" />
    <child link = "right_foot8_collision" />
  </joint>
  <link name = "right_foot8_collision">
    <collision>
      <origin rpy = "0 0 0" xyz = "0 0 0" />
      <geometry>
        <sphere radius = "0.005" />
      </geometry>
    </collision>
    <inertial>
      <mass value="0.01"/>
      <inertia ixx="9.6e-06" ixy="0.0" ixz="0.0" iyy="9.6e-06" iyz="0.0" izz="9.6e-06"/>
    </inertial>
    <visual>
        <origin rpy = "0 0 0" xyz = "0 0 0" />
        <geometry>
          <sphere radius = "0.02" />
        </geometry>
        <material name = "">
          <color rgba = "1 0 0 1" />
          <texture filename = "" />
        </material>
    </visual>
  </link>
    <!-- <collision name="right_foot1_collision">
      <origin rpy="0 0 0" xyz="0.175 0 -0.054"/>
      <geometry>
        <sphere radius="0.002"/>
      </geometry>
    </collision>
    <collision name="right_foot2_collision">
      <origin rpy="0 0 0" xyz="-0.09 0 -0.066"/>
      <geometry>
        <sphere radius="0.002"/>
      </geometry>
    </collision>
    <collision name="right_foot3_collision">
      <origin rpy="0 0 0" xyz="0.135 0.046 -0.063"/>
      <geometry>
        <sphere radius="0.002"/>
      </geometry>
    </collision>
    <collision name="right_foot4_collision">
      <origin rpy="0 0 0" xyz="0.135 -0.046 -0.063"/>
      <geometry>
        <sphere radius="0.002"/>
      </geometry>
    </collision>
    <collision name="right_foot5_collision">
      <origin rpy="0 0 0" xyz="0.065 0.053 -0.066"/>
      <geometry>
        <sphere radius="0.002"/>
      </geometry>
    </collision>
    <collision name="right_foot6_collision">
      <origin rpy="0 0 0" xyz="0.065 -0.053 -0.066"/>
      <geometry>
        <sphere radius="0.002"/>
      </geometry>
    </collision>
    <collision name="right_foot7_collision">
      <origin rpy="0 0 0" xyz="-0.055 0.045 -0.066"/>
      <geometry>
        <sphere radius="0.002"/>
      </geometry>
    </collision>
    <collision name="right_foot8_collision">
      <origin rpy="0 0 0" xyz="-0.055 -0.045 -0.066"/>
      <geometry>
        <sphere radius="0.002"/>
      </geometry>
    </collision>
    <collision name="right_foot9_collision">
      <origin rpy="0 0 0" xyz="0.1 0.053 -0.0655"/>
      <geometry>
        <sphere radius="0.002"/>
      </geometry>
    </collision>
    <collision name="right_foot10_collision">
      <origin rpy="0 0 0" xyz="0.1 -0.053 -0.0655"/>
      <geometry>
        <sphere radius="0.002"/>
      </geometry>
    </collision>
    <collision name="right_foot11_collision">
      <origin rpy="0 0 0" xyz="0.065 0 -0.066"/>
      <geometry>
        <sphere radius="0.002"/>
      </geometry>
    </collision>
    <collision name="right_foot12_collision">
      <origin rpy="0 0 0" xyz="0 -0.026 -0.0637"/>
      <geometry>
        <sphere radius="0.002"/>
      </geometry>
    </collision>
    <collision name="right_foot13_collision">
      <origin rpy="0 0 0" xyz="0 0.026 -0.0637"/>
      <geometry>
        <sphere radius="0.002"/>
      </geometry>
    </collision> -->
</robot>
